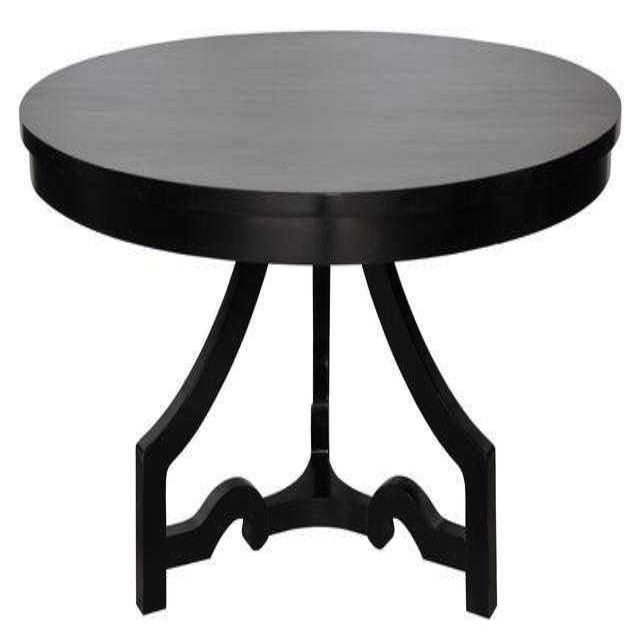obstacle: (20, 32, 620, 615)
